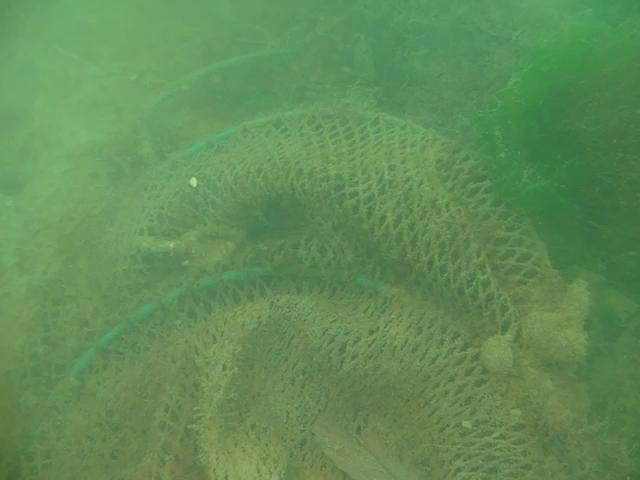fish net: (10, 106, 554, 339), (5, 265, 549, 480)
